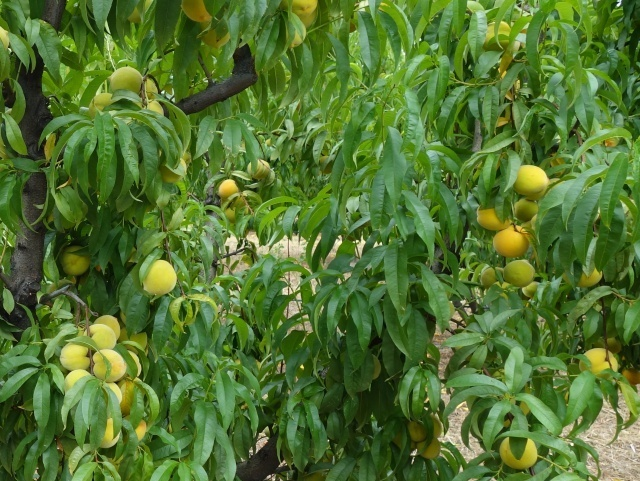peach: (577, 342, 623, 387), (494, 431, 542, 474), (136, 255, 180, 300), (560, 252, 606, 292), (512, 159, 552, 203), (88, 348, 133, 385), (104, 62, 146, 101), (197, 12, 234, 54), (489, 223, 532, 258), (55, 339, 96, 374), (56, 240, 92, 279), (470, 199, 509, 235), (134, 96, 173, 130), (274, 13, 308, 52), (80, 322, 123, 352), (499, 258, 539, 290), (58, 365, 95, 398), (508, 193, 544, 226), (90, 308, 127, 340), (93, 375, 132, 405), (156, 154, 189, 188), (473, 262, 509, 293), (94, 414, 123, 452), (130, 72, 165, 103), (83, 89, 119, 117), (243, 153, 274, 184), (402, 414, 431, 446), (415, 435, 444, 465), (213, 176, 242, 202), (518, 276, 543, 301), (285, 1, 321, 18), (423, 414, 447, 438), (316, 153, 340, 177), (222, 204, 246, 227)
